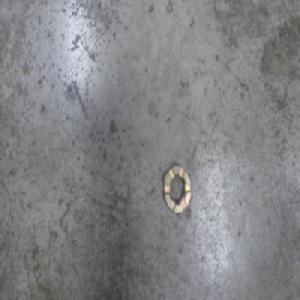Nut: (162, 161, 191, 217)
